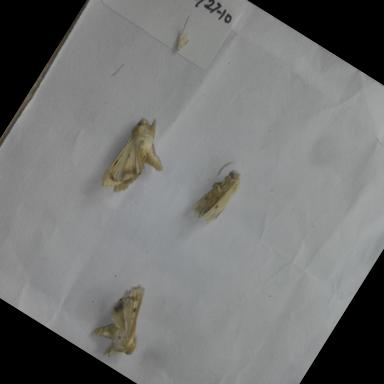abw: (90, 103, 188, 215), (82, 270, 171, 369), (176, 152, 260, 242)
